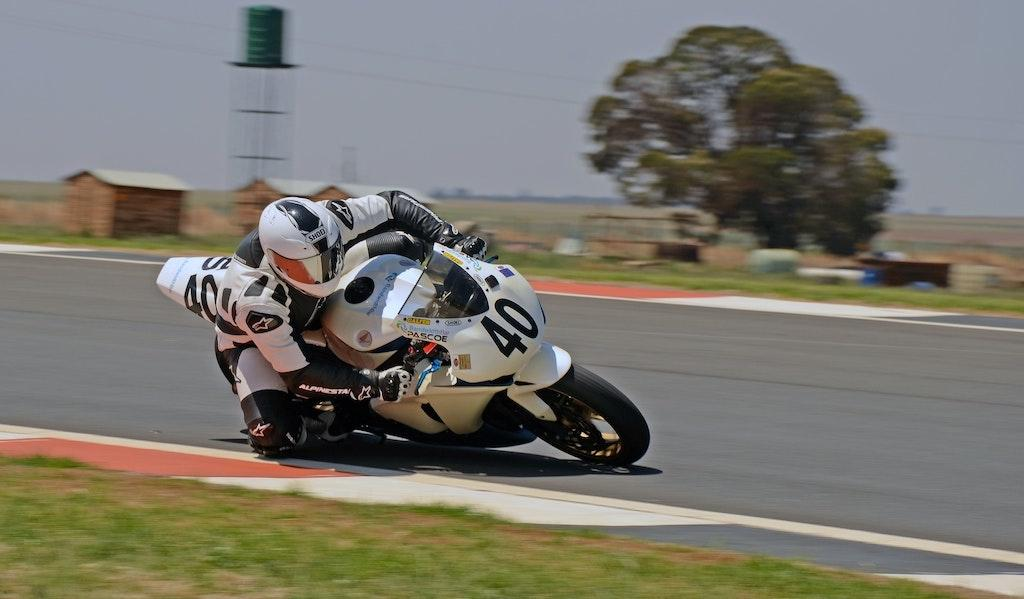helmet: (258, 195, 345, 299)
